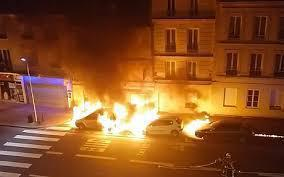fire: (63, 92, 162, 136), (179, 112, 210, 138)
